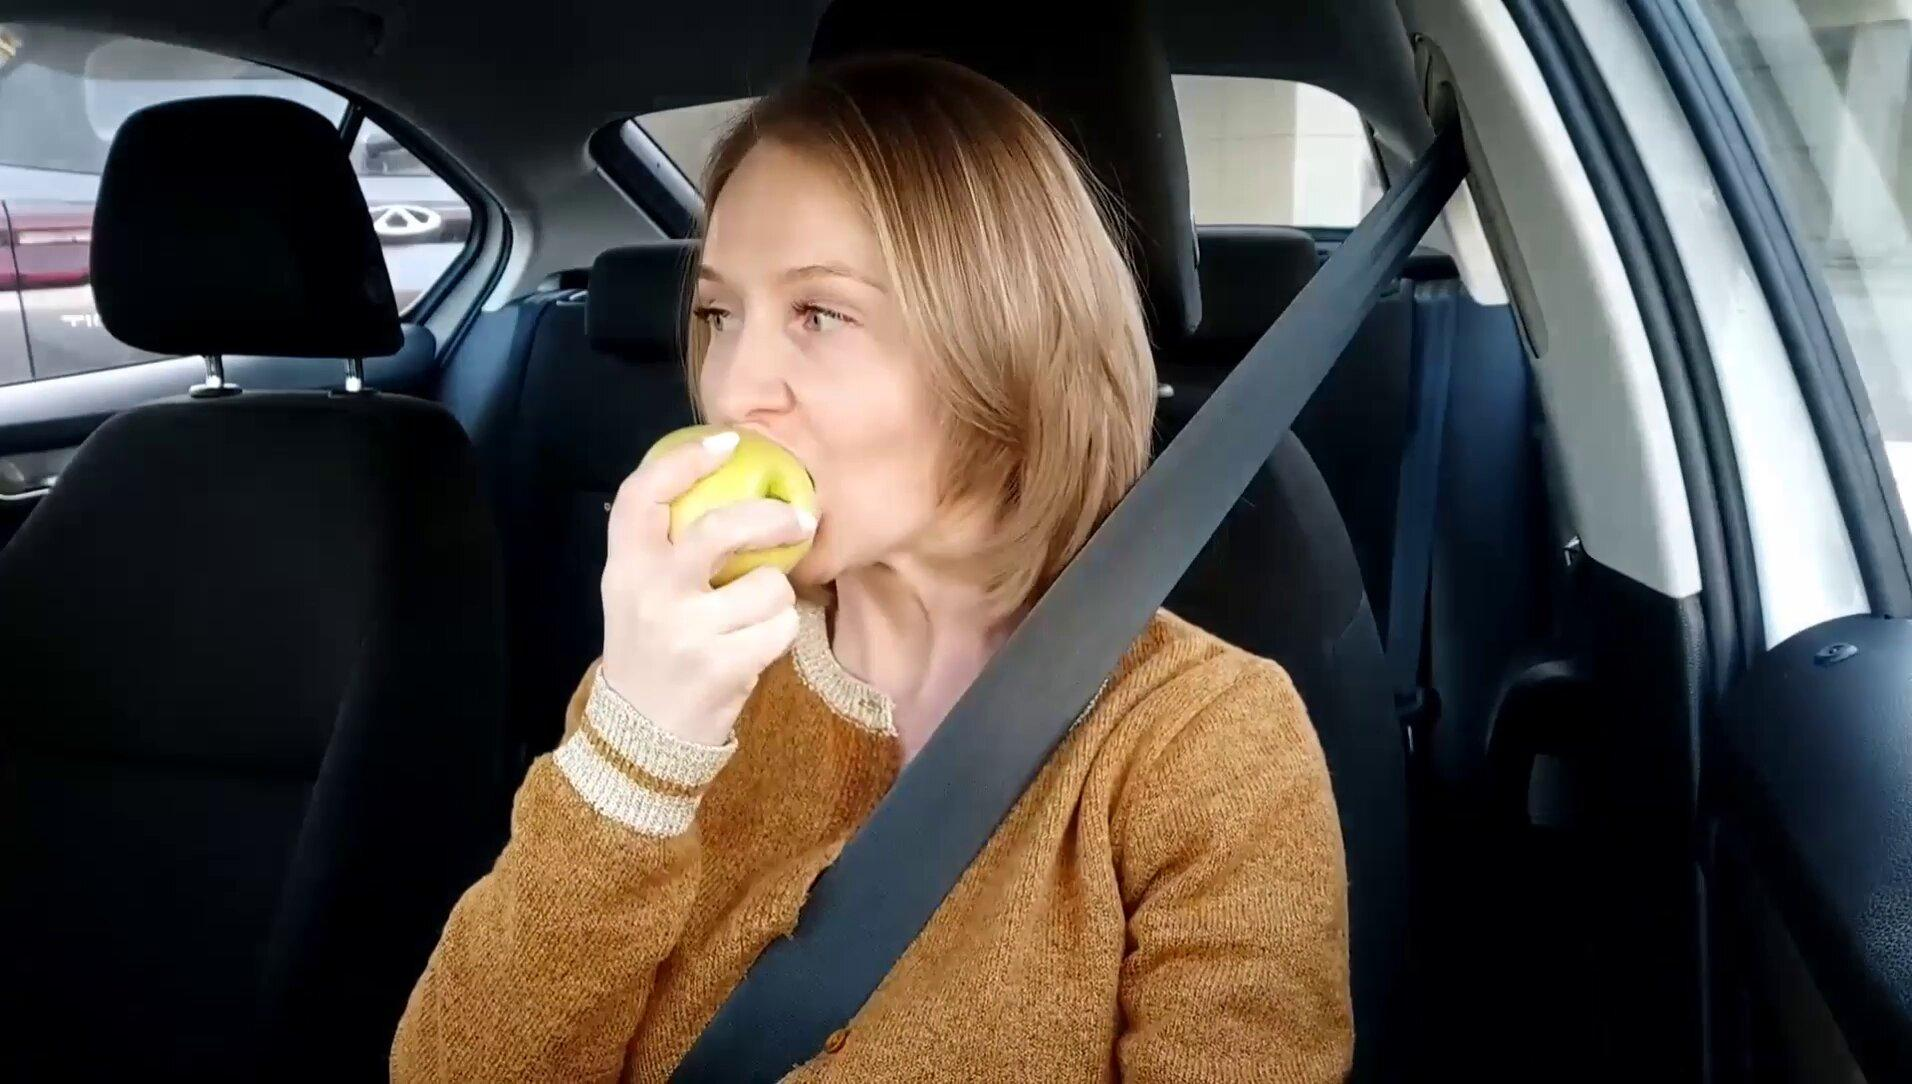Eating: (630, 418, 827, 600)
